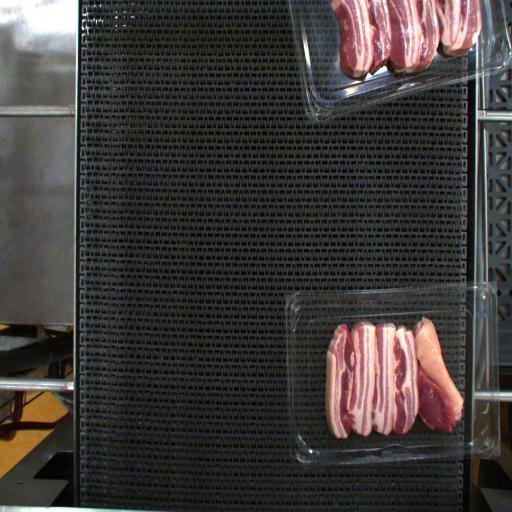twisted-meat: (418, 324, 473, 436)
